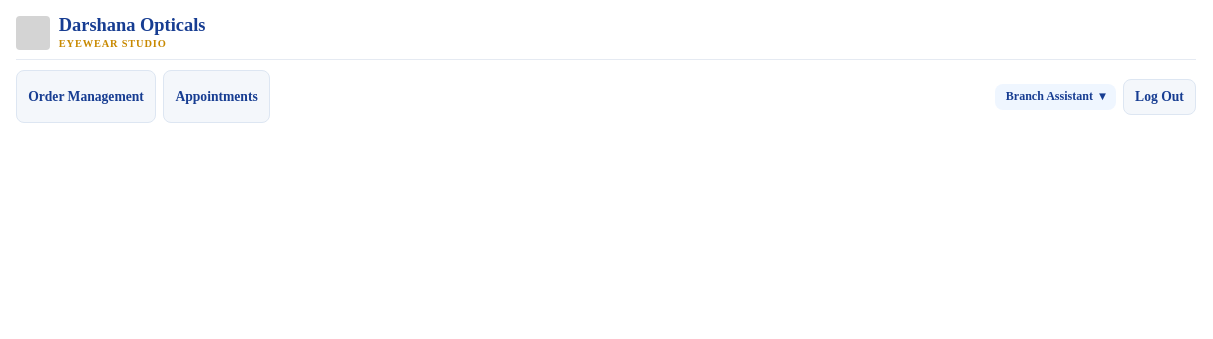
Staff identity dropdown › shows the logged-in name, role, and assigned branch for BRANCH_ASSISTANT
The width and height of the screenshot is (1213, 339).
Click the button with aria-label "View staff identity". click: coordinates (1056, 97)
box: [1006,89,1105,104]
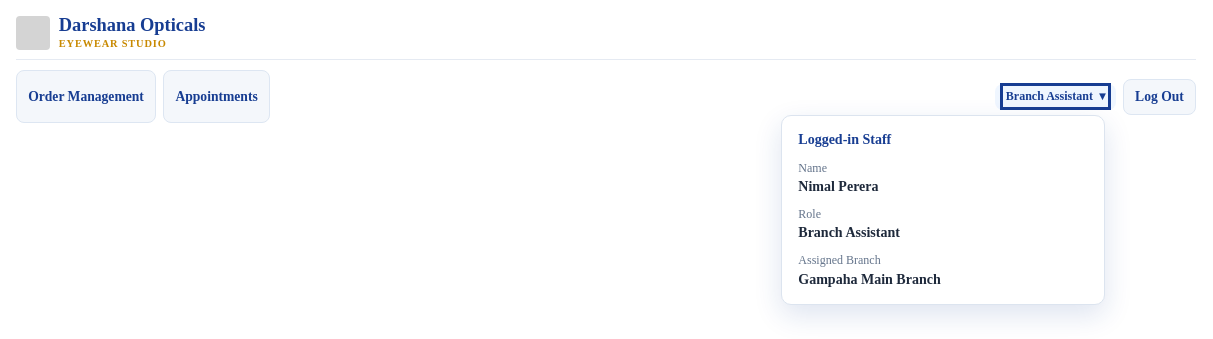
Now the element named "Staff identity details" shows "Nimal Perera", box [798,179,878,194]
Now the element named "Staff identity details" shows "Branch Assistant", box [798,226,900,240]
Now the element named "Staff identity details" shows "Gampaha Main Branch", box [798,272,941,287]
